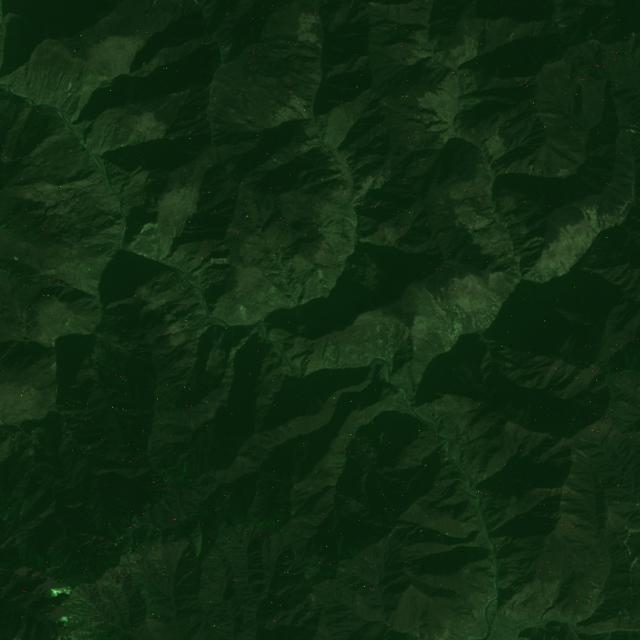landslides: (22, 268, 55, 288), (449, 531, 482, 551), (74, 614, 100, 628), (57, 389, 81, 404), (397, 325, 408, 350), (77, 314, 95, 329), (1, 554, 15, 569), (239, 305, 249, 324), (23, 278, 39, 289), (285, 273, 298, 286), (60, 129, 71, 144), (91, 280, 107, 290), (230, 348, 241, 362), (349, 416, 359, 430), (263, 293, 273, 307), (344, 216, 357, 226), (160, 466, 176, 474), (487, 514, 499, 524), (27, 343, 37, 355), (65, 321, 74, 334), (291, 418, 297, 437), (209, 257, 227, 263), (216, 612, 228, 621), (622, 198, 630, 211)
